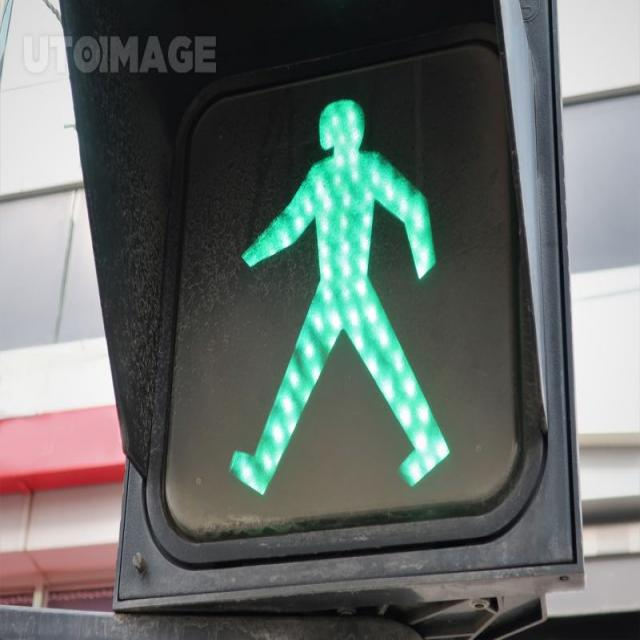Go: (133, 87, 528, 536)
